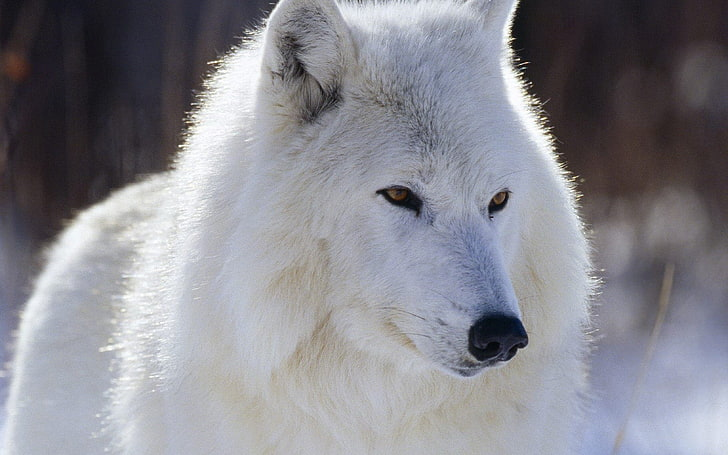Lobo: (196, 4, 618, 450)
